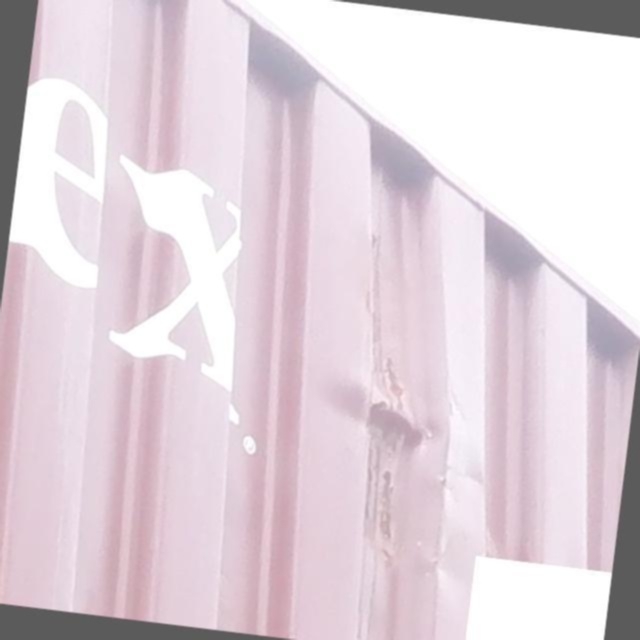Dent: (289, 362, 503, 464)
